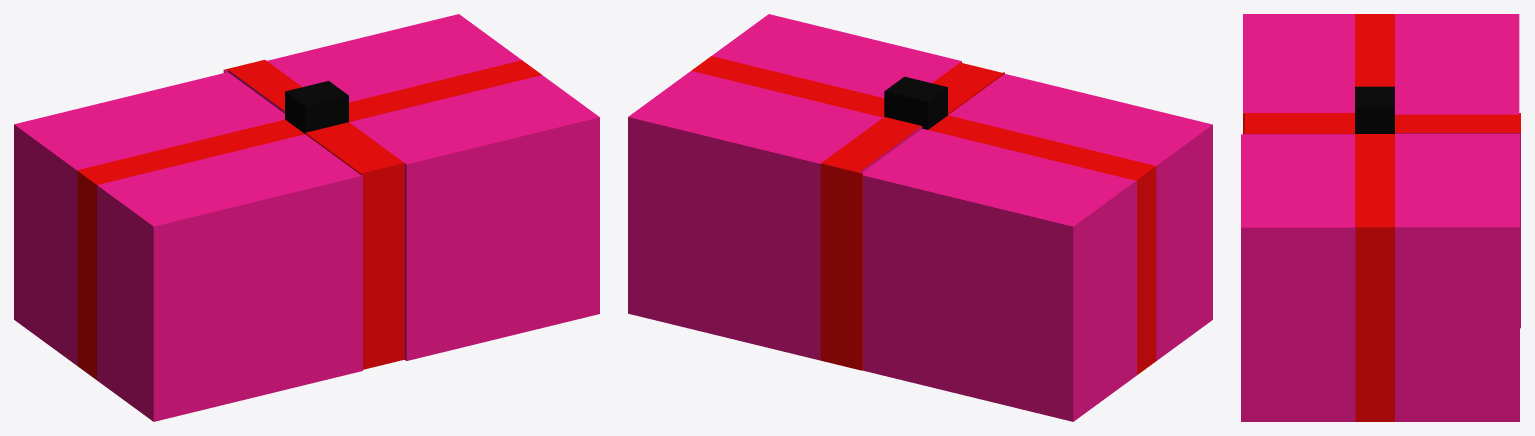
The model's file is lahja2.obj.
3 views of the same model, side by side, from view 1: azimuth 30°, elevation 25°; view 2: azimuth 150°, elevation 25°; view 3: azimuth 270°, elevation 25° (orthographic).
Parts seen in each view (by area): view 1: lahja2-SKP-0003_DeepPink, lahja2-SKP-Color_A01, lahja2-SKP-Color_009; view 2: lahja2-SKP-0003_DeepPink, lahja2-SKP-Color_A01, lahja2-SKP-Color_009; view 3: lahja2-SKP-0003_DeepPink, lahja2-SKP-Color_A01, lahja2-SKP-Color_009.
Part boxes in pixels (bbox=[...]): lahja2-SKP-0003_DeepPink: bbox=[14, 14, 599, 421]; lahja2-SKP-Color_A01: bbox=[77, 60, 541, 379]; lahja2-SKP-Color_009: bbox=[285, 81, 348, 133]; lahja2-SKP-0003_DeepPink: bbox=[628, 14, 1212, 421]; lahja2-SKP-Color_A01: bbox=[691, 56, 1156, 374]; lahja2-SKP-Color_009: bbox=[884, 76, 947, 129]; lahja2-SKP-0003_DeepPink: bbox=[1241, 14, 1520, 421]; lahja2-SKP-Color_A01: bbox=[1243, 14, 1520, 421]; lahja2-SKP-Color_009: bbox=[1355, 86, 1394, 133].
Bounding box in the file's own units: 4.55 × 2.18 × 2.5.
